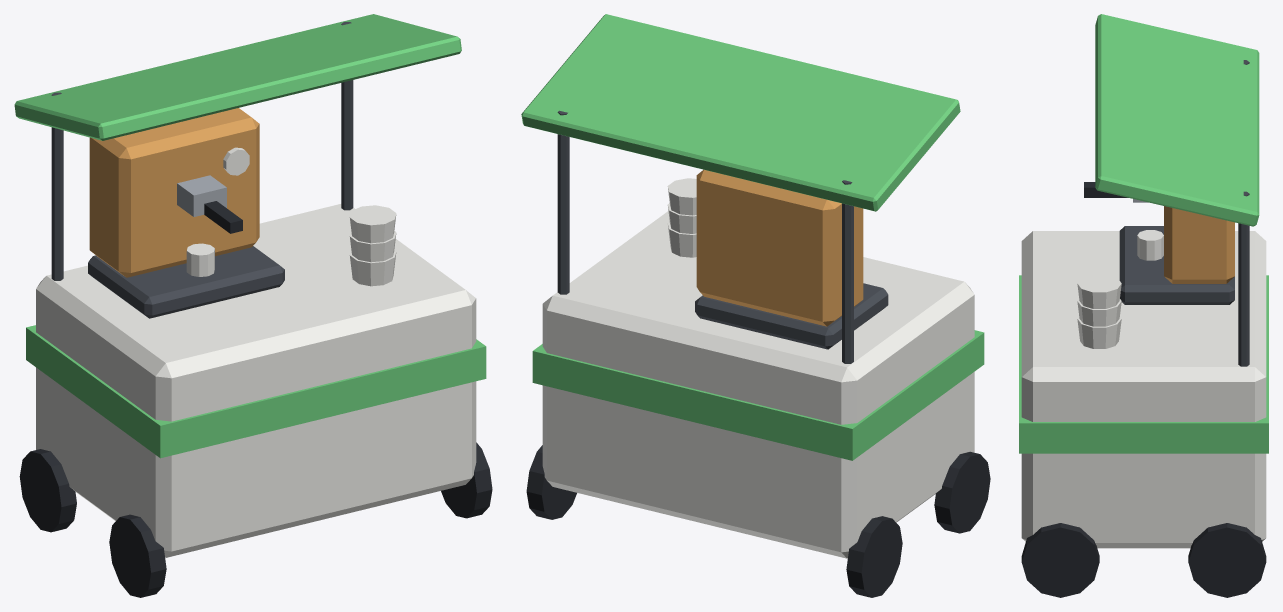
File: coffee_p2_3.glb
The picture shows the model from 3 angles, left to right: view 1: azimuth 30°, elevation 25°; view 2: azimuth 150°, elevation 25°; view 3: azimuth 270°, elevation 25°; orthographic projection. The views are drawn at different scales.
Visible parts, largest first — view 1: coffee_p2_3_mesh; view 2: coffee_p2_3_mesh; view 3: coffee_p2_3_mesh.
Part boxes in pixels (box(x1,y1,x2,y2)): coffee_p2_3_mesh: box(14, 14, 492, 597); coffee_p2_3_mesh: box(521, 14, 990, 597); coffee_p2_3_mesh: box(1019, 14, 1268, 597).
Size of the model in its own units: 0.7 by 0.8454 by 0.45.
